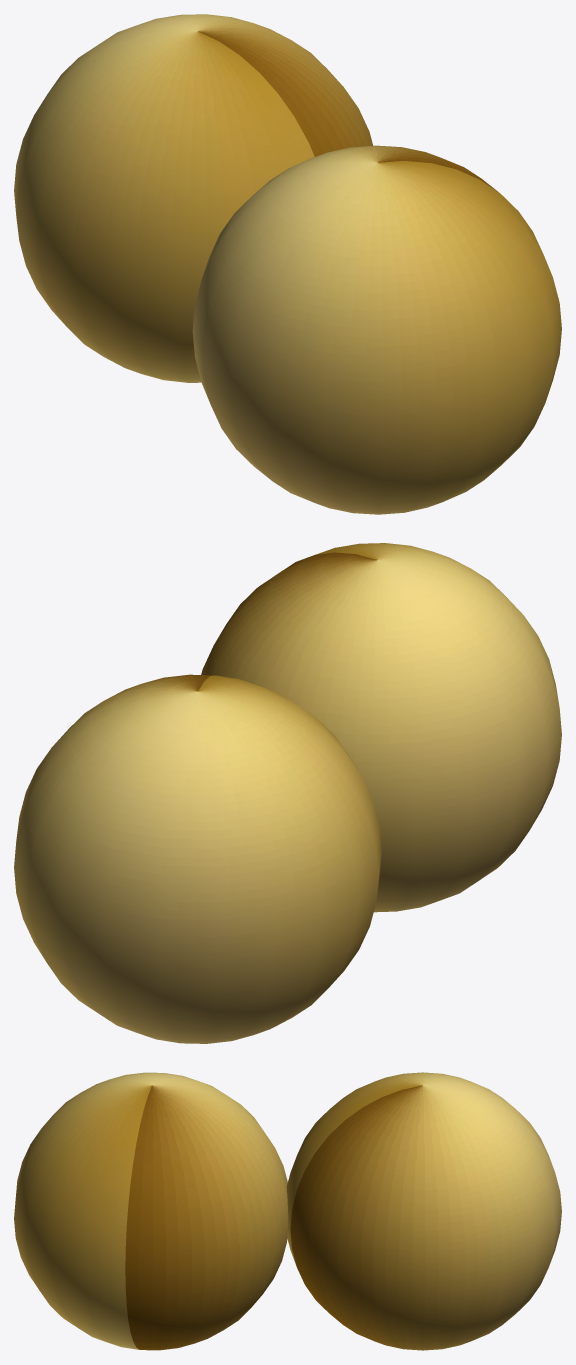
The model's file is chapa.obj.
The picture shows the model from 3 angles, top to bottom: view 1: azimuth 30°, elevation 25°; view 2: azimuth 150°, elevation 25°; view 3: azimuth 270°, elevation 25°; orthographic projection. The views are drawn at different scales.
Visible parts, largest first — view 1: cuarto:cuarto:polySurface7193polySurface7548; view 2: cuarto:cuarto:polySurface7193polySurface7548; view 3: cuarto:cuarto:polySurface7193polySurface7548.
Part boxes in pixels (left/top/right/bottom): cuarto:cuarto:polySurface7193polySurface7548: left=14, top=14, right=561, bottom=514; cuarto:cuarto:polySurface7193polySurface7548: left=14, top=543, right=561, bottom=1043; cuarto:cuarto:polySurface7193polySurface7548: left=14, top=1072, right=561, bottom=1350.
Size of the model in its own units: 0.1477 by 0.1477 by 0.2908.
Materials: 1 (1 with a texture image).
